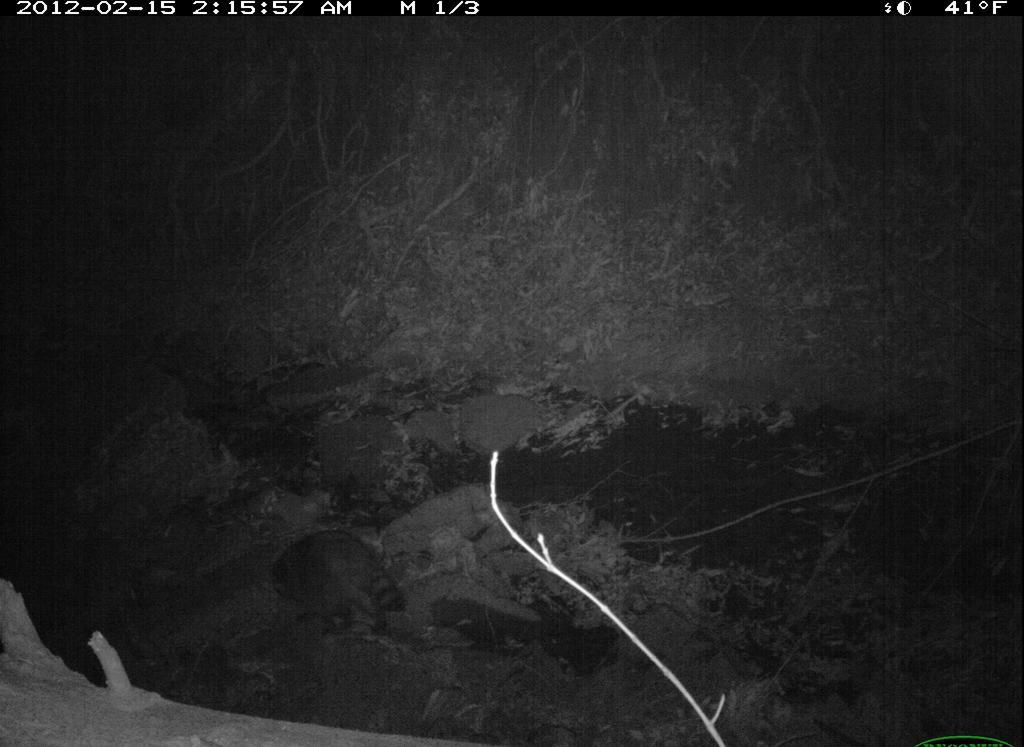raccoon: (267, 521, 417, 642)
